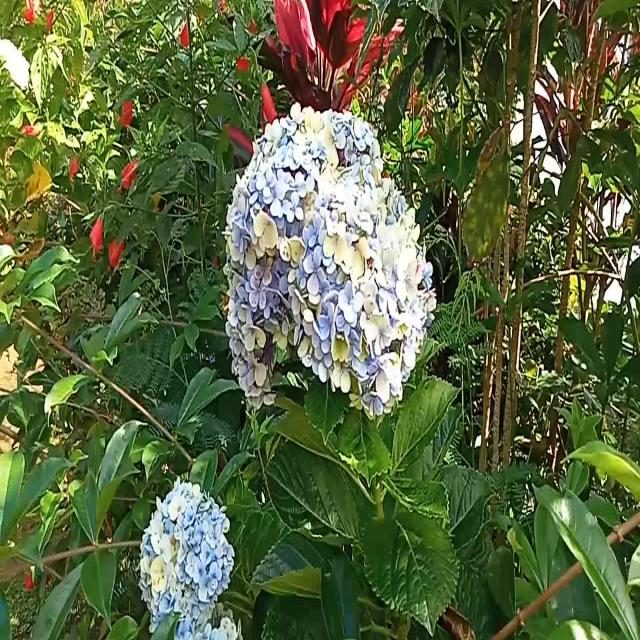Flower: (223, 102, 437, 414), (141, 479, 236, 638)
